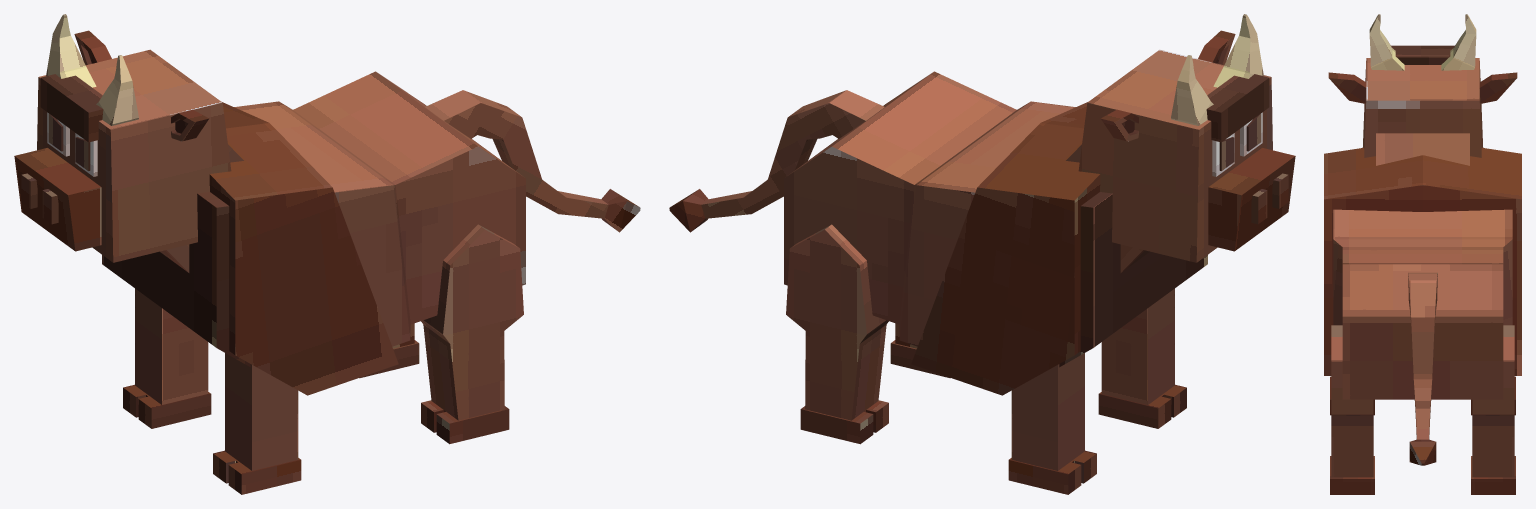
File: animal_bull.obj
3 renders of one model, left to right at view 1: azimuth 30°, elevation 25°; view 2: azimuth 150°, elevation 25°; view 3: azimuth 270°, elevation 25°, orthographic. The views are drawn at different scales.
Visible parts, largest first — view 1: animal_bull; view 2: animal_bull; view 3: animal_bull.
Boxes of the visible parts, box(x1,y1,x2,y2) form: animal_bull: box(14, 14, 640, 494); animal_bull: box(669, 14, 1295, 494); animal_bull: box(1324, 14, 1521, 494).
Size of the model in its own units: 8.28 by 5.75 by 3.
1 material, 1 textured.
